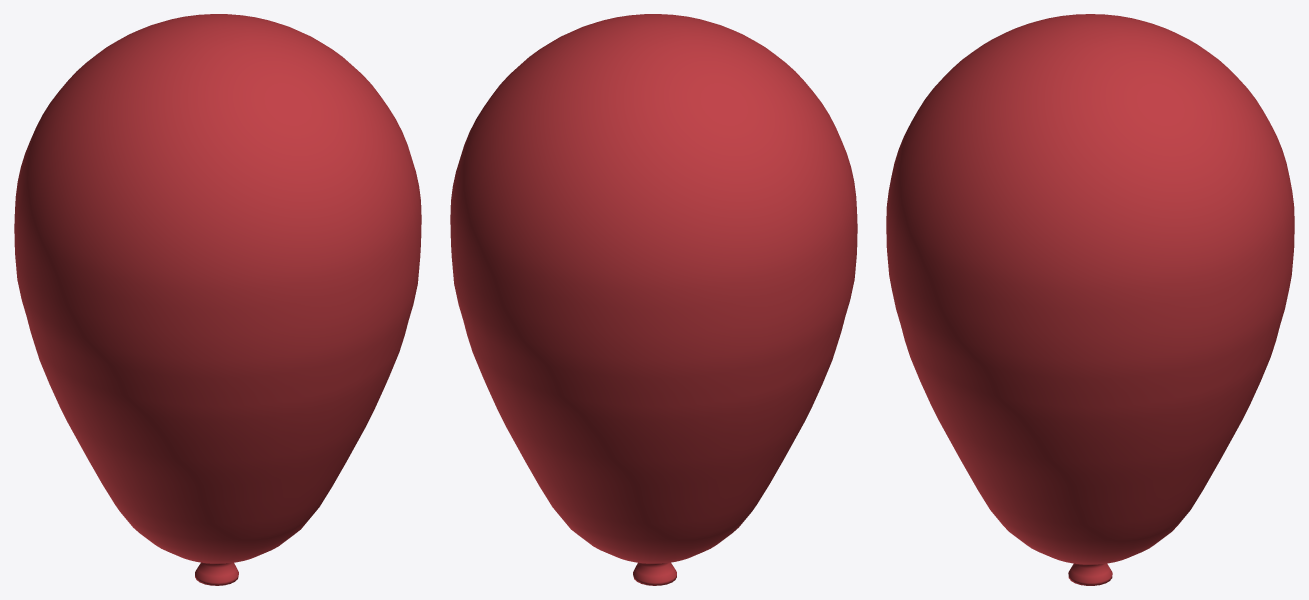
File: Balloon_red.fbx
3 views of the same model, side by side, from view 1: azimuth 30°, elevation 25°; view 2: azimuth 150°, elevation 25°; view 3: azimuth 270°, elevation 25° (orthographic).
Visible parts, largest first — view 1: Balloon; view 2: Balloon; view 3: Balloon.
Boxes of the visible parts, bbox=[...] form: Balloon: bbox=[14, 14, 421, 585]; Balloon: bbox=[450, 14, 857, 585]; Balloon: bbox=[886, 14, 1294, 585].
Size of the model in its own units: 68.3 by 101 by 68.3.
